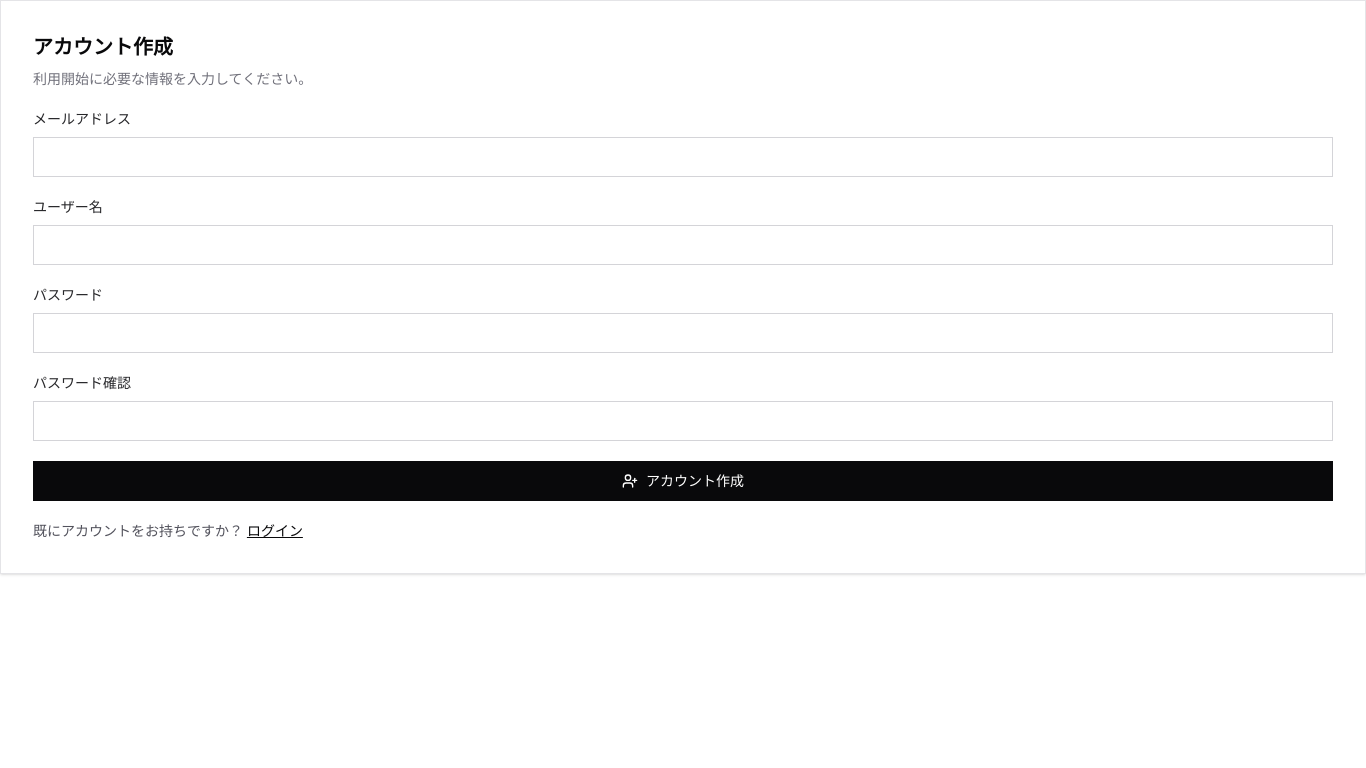
Scenario: AccountSignupForm › 送信中にボタンを無効化する
This screenshot has width=1366, height=768.
Type "user@example.com" into the field labelled "メールアドレス" at (683, 157), box [33,137,1333,177]
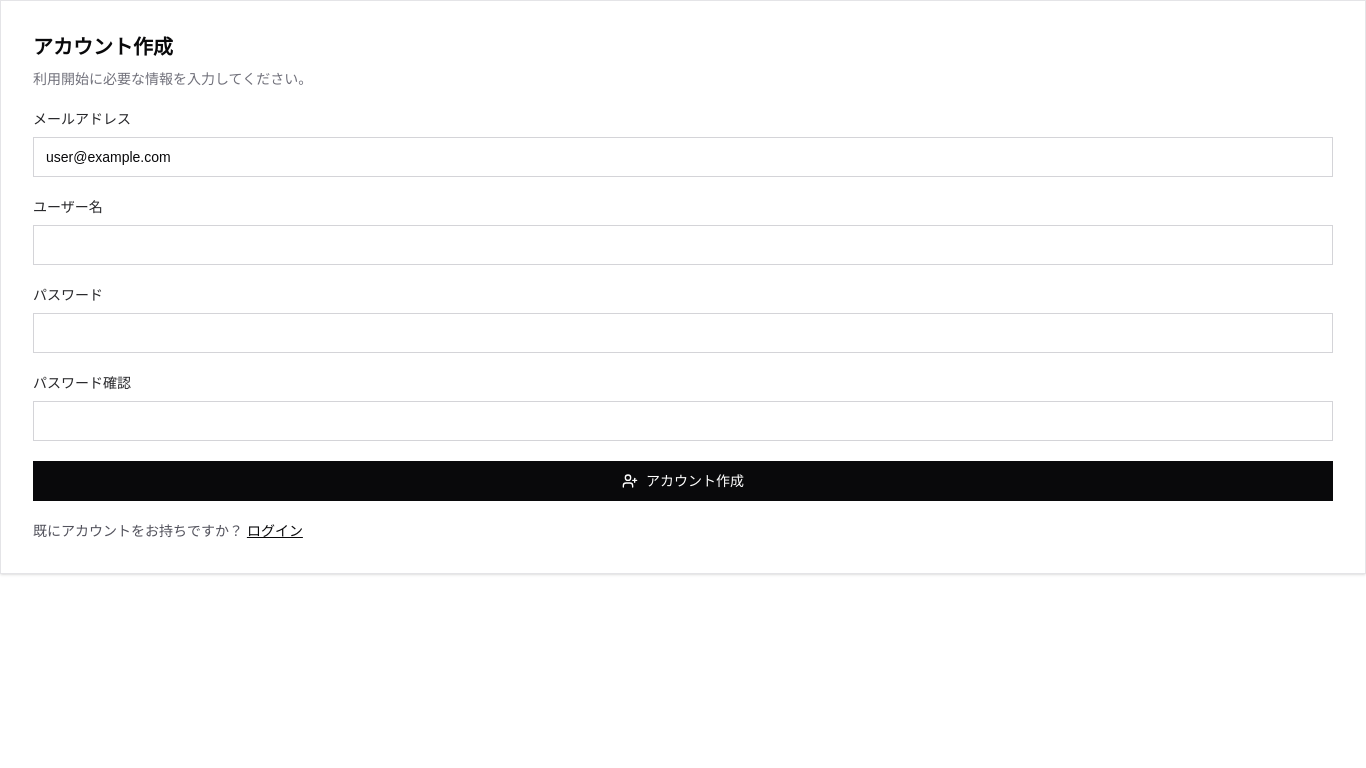
Type "山田太郎" into the field labelled "ユーザー名" at (683, 245), box [33,225,1333,265]
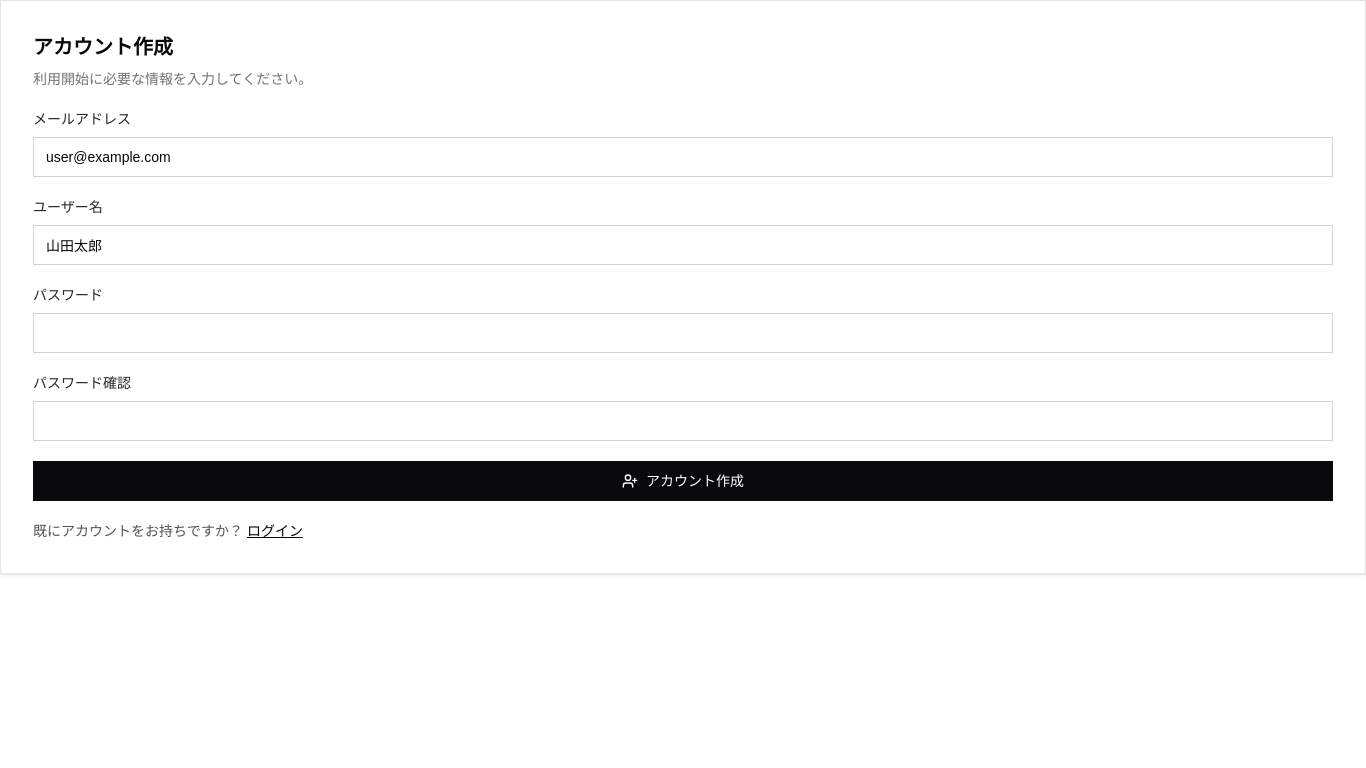
Type "password123" into the password field labelled "パスワード" at (683, 333), box [33,313,1333,353]
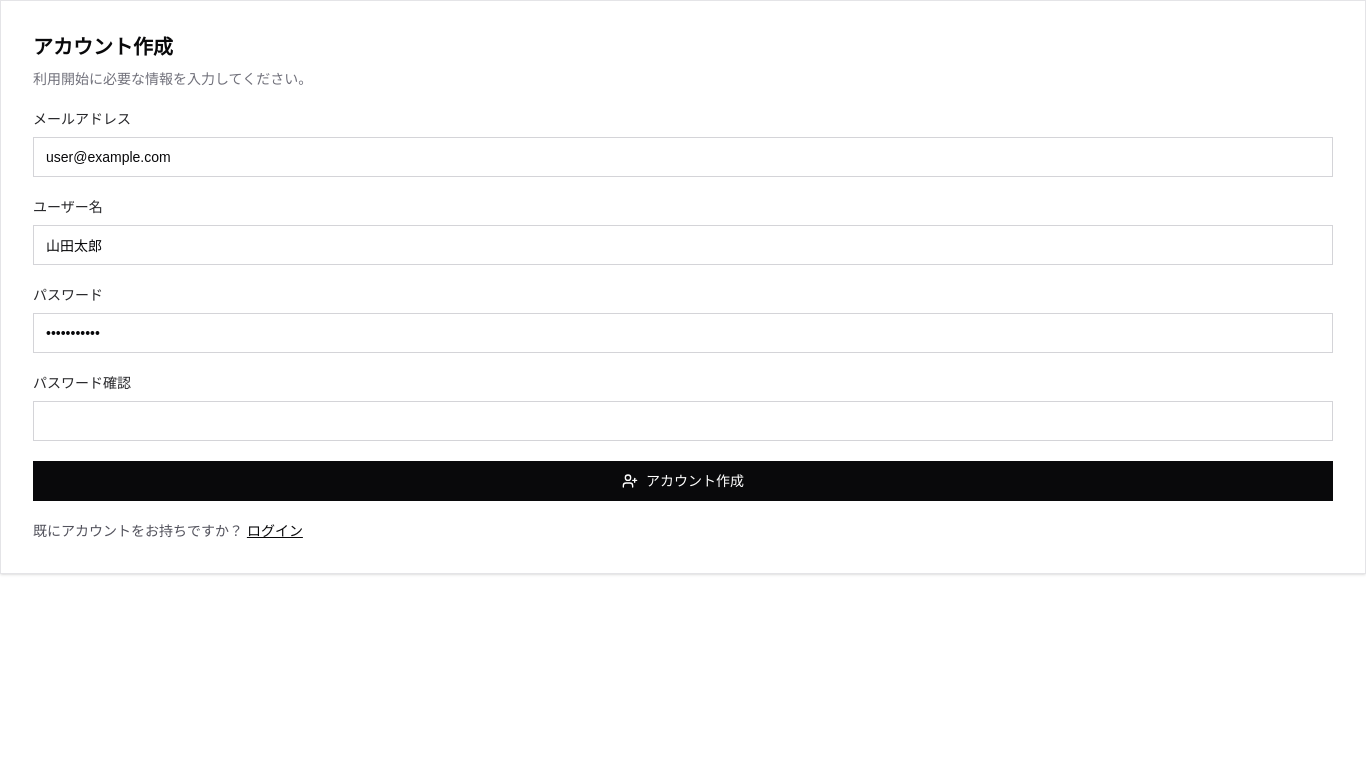
Type "password123" into the password field labelled "パスワード確認" at (683, 421), box [33,401,1333,441]
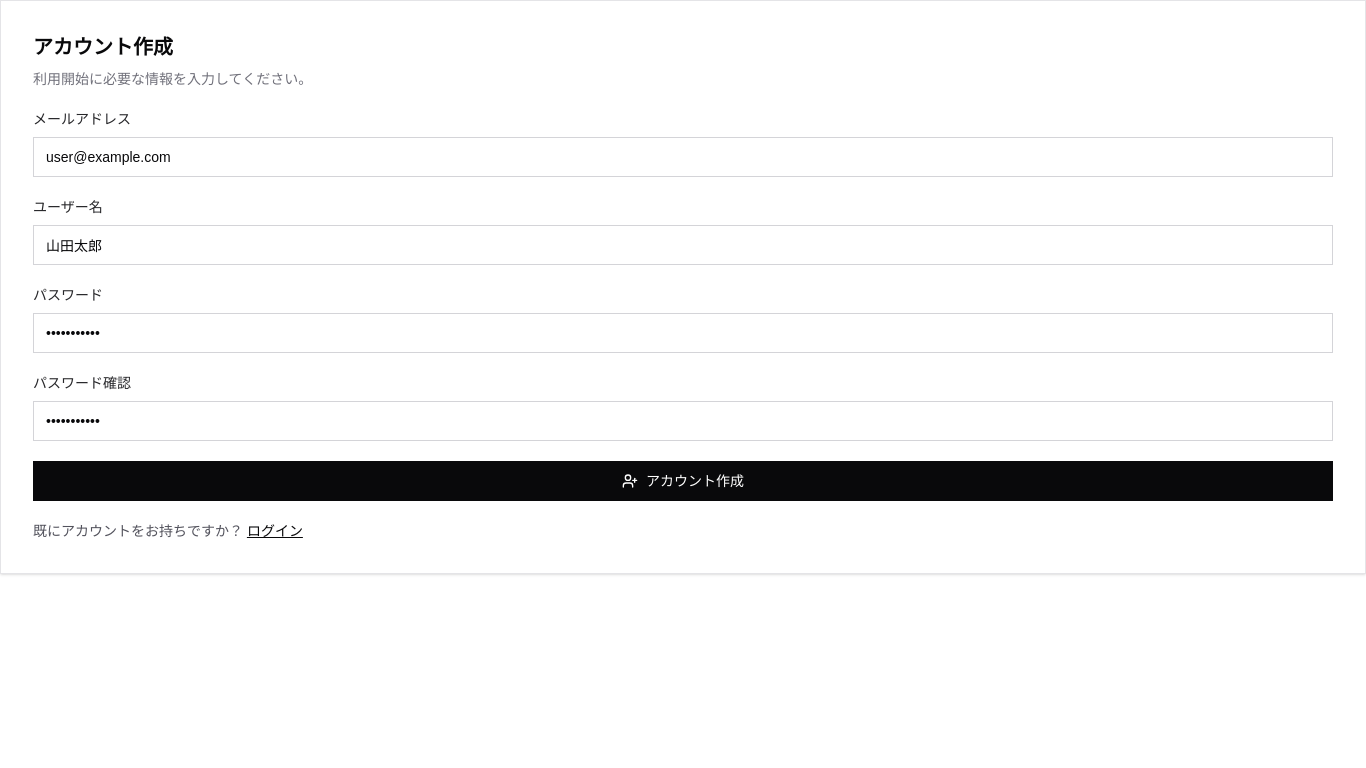
Click the button "アカウント作成" at (683, 481), box [33,461,1333,501]
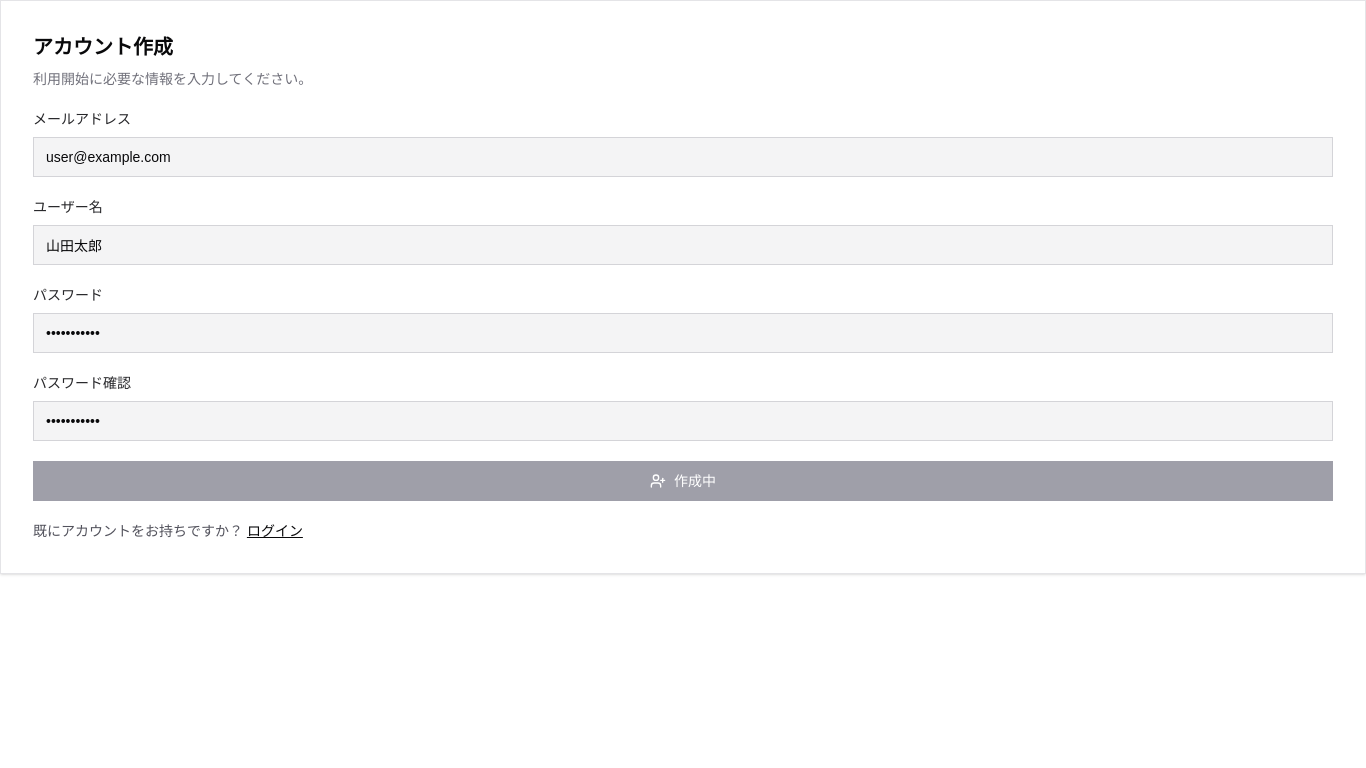
Result: the button "作成中" is disabled at [33,461,1333,501]
